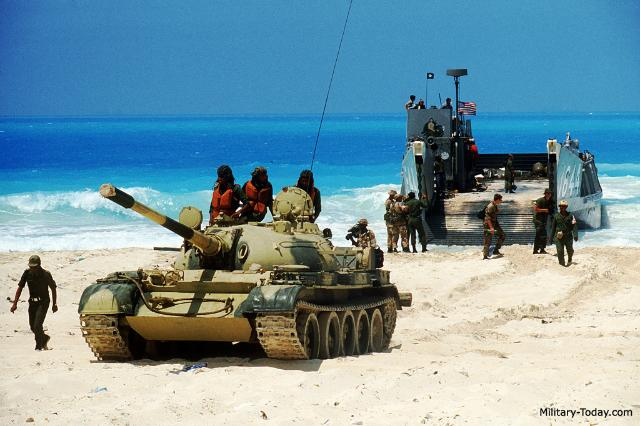other: (9, 253, 58, 350), (205, 162, 243, 218), (244, 164, 276, 216), (553, 201, 577, 265), (482, 192, 503, 260), (530, 188, 552, 252), (294, 165, 320, 215), (408, 190, 428, 250), (384, 186, 398, 250), (349, 216, 376, 243), (391, 194, 404, 250), (502, 151, 514, 191), (324, 226, 336, 244), (404, 93, 416, 108), (427, 117, 435, 134), (442, 97, 454, 106), (416, 96, 424, 107), (402, 192, 410, 203)
tank: (78, 215, 408, 348)
